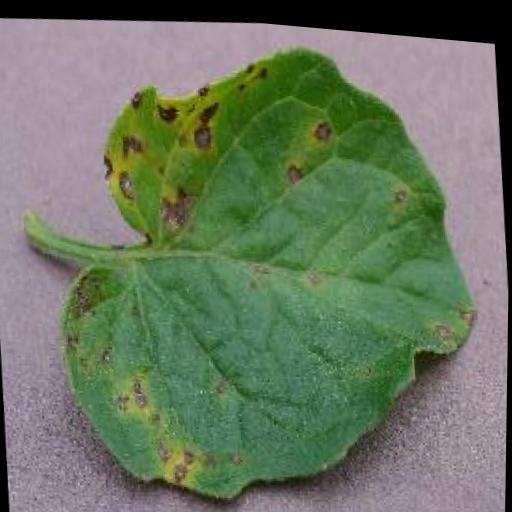Septoria: (42, 13, 497, 512)
